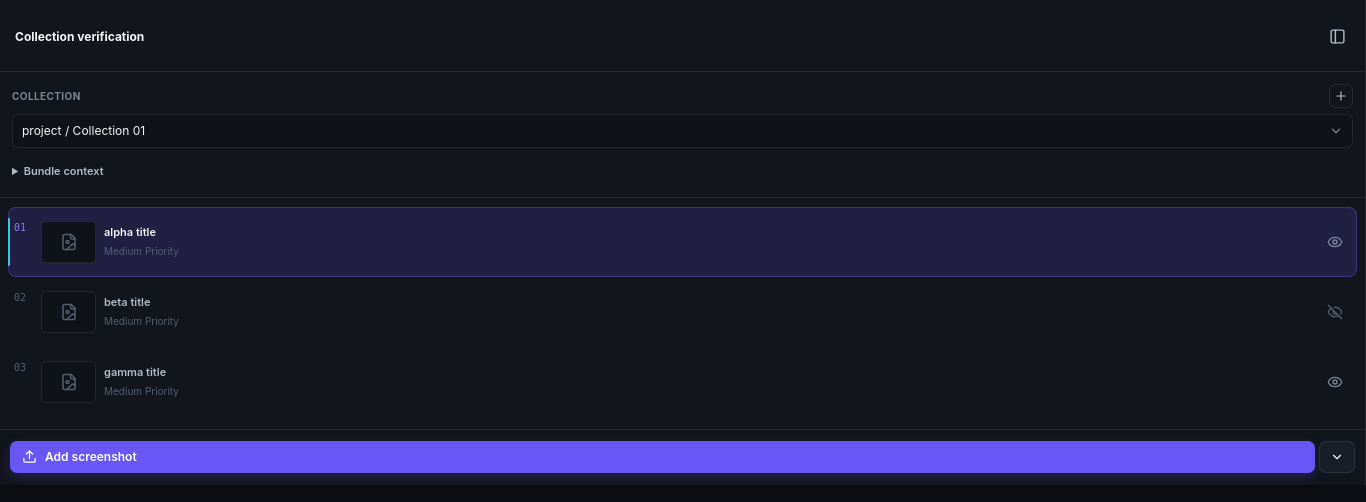
Scenario: CollectionRail › keeps collection picker actions distinct when a shortened name would collide
The image size is (1366, 502).
Click the button with test id "collection-picker" showing "project / Collection 01" at (84,130), box [12, 114, 1353, 148]
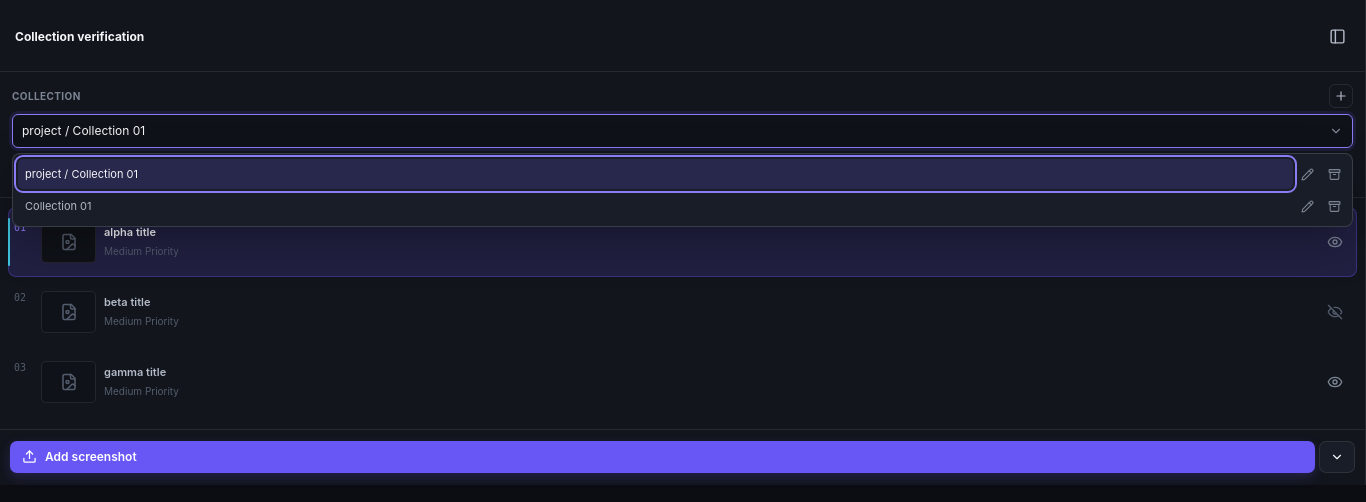
Now the menu item "project / Collection 01" is shown, box [18, 159, 1293, 189]
Now the menu item "Collection 01" is shown, box [18, 191, 1293, 221]
Now the menu item named "Rename project / Collection 01" is shown, box [1294, 161, 1320, 187]
